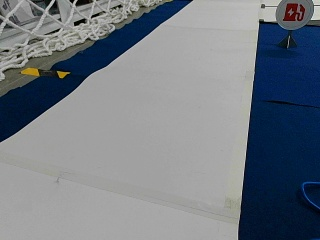battery: (275, 0, 314, 30)
